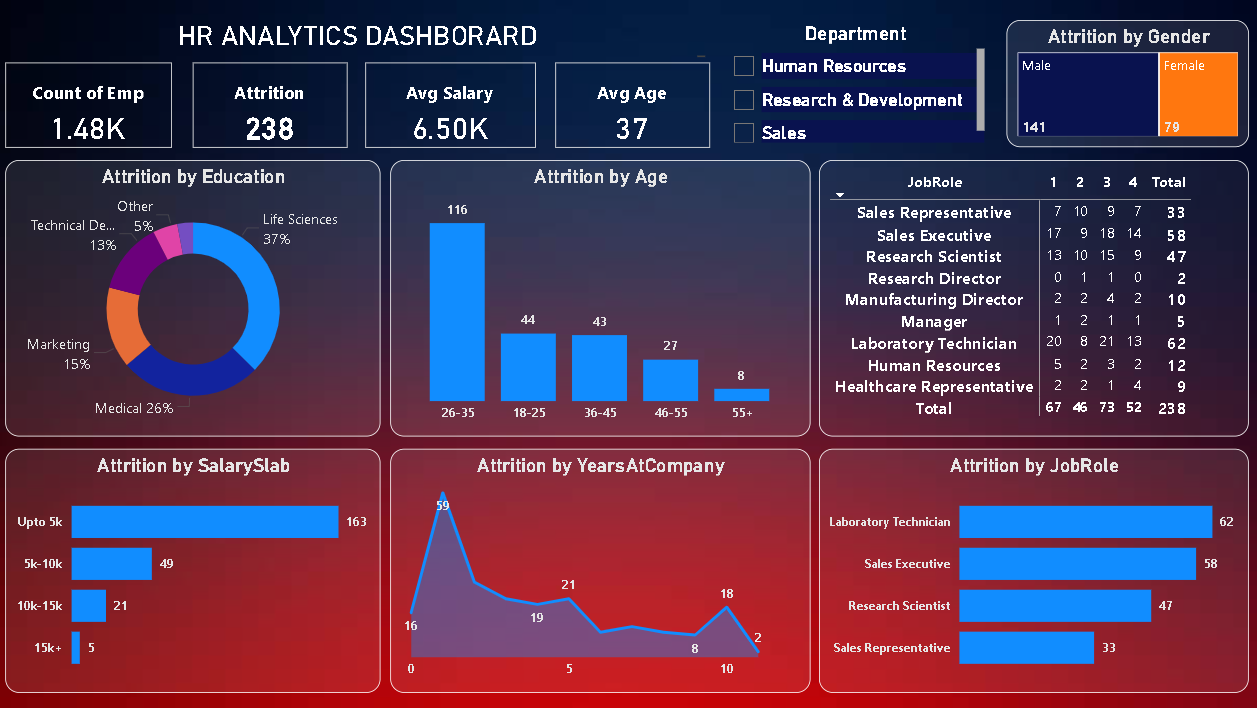

The page's visual inventory and layout, read from the dashboard file:
{"tool":"powerbi","page":{"name":"Page 1","canvas":[1280,720],"ordinal":0},"visuals":[{"type":"cardVisual","title":"Count of Employee","fields":{"Data":["CountNonNull(Sheet1.EmpID)"]},"box":[11,63.1,168.8,86.4],"z":0},{"type":"cardVisual","title":"Count of Employee","fields":{"Data":["Sum(Sheet1.AttritionCount)"]},"box":[201.7,63.1,156.4,86.4],"z":1000},{"type":"cardVisual","title":"Count of Employee","fields":{"Data":["Avg(Sheet1.MonthlyIncome)"]},"box":[376,63.1,172.9,86.4],"z":2000},{"type":"cardVisual","title":"Count of Employee","fields":{"Data":["Avg(Sheet1.Age)"]},"box":[568.1,63.1,156.4,86.4],"z":3000},{"type":"donutChart","title":" Attrition by Education","fields":{"Category":["Sheet1.EducationField"],"Y":["Sum(Sheet1.AttritionCount)"]},"box":[11,161.9,380.1,279.9],"z":4000},{"type":"columnChart","title":" Attrition by Age","fields":{"Category":["Sheet1.AgeGroup"],"Y":["Sum(Sheet1.AttritionCount)"]},"box":[400.7,161.9,425.4,279.9],"z":5000},{"type":"pivotTable","fields":{"Rows":["Sheet1.JobRole"],"Columns":["Sheet1.JobSatisfaction"],"Values":["Sum(Sheet1.AttritionCount)"]},"box":[835.7,161.9,435,279.9],"z":6000},{"type":"barChart","title":" Attrition by SalarySlab","fields":{"Category":["Sheet1.SalarySlab"],"Y":["Sum(Sheet1.AttritionCount)"]},"box":[11,454.2,380.1,247],"z":7000},{"type":"barChart","title":" Attrition by JobRole","fields":{"Category":["Sheet1.JobRole"],"Y":["Sum(Sheet1.AttritionCount)"]},"box":[835.7,454.2,435,247],"z":8000},{"type":"areaChart","title":" Attrition by YearsAtCompany","fields":{"Category":["Sheet1.YearsAtCompany"],"Y":["Sum(Sheet1.AttritionCount)"]},"box":[400.7,454.2,425.4,247],"z":9000},{"type":"treemap","title":" Attrition by Gender","fields":{"Group":["Sheet1.Gender"],"Values":["Sum(Sheet1.AttritionCount)"]},"box":[1025,20.6,245.6,129],"z":10000},{"type":"slicer","title":"Department","fields":{"Values":["Sheet1.Department"]},"box":[736.9,23.3,271.7,126.2],"z":11000},{"type":"textbox","title":"HR ANALYTICS DASHBORARD","box":[11,20.6,713.6,42.5],"z":12000}]}

Visuals, with their boxes in screenshot pixels (x1, y1, x2, y2), scaled from the page's 1280x720 canvas onto the 1257x708 screenshot:
"Count of Employee" cardVisual: bbox=(11, 62, 177, 147)
"Count of Employee" cardVisual: bbox=(198, 62, 352, 147)
"Count of Employee" cardVisual: bbox=(369, 62, 539, 147)
"Count of Employee" cardVisual: bbox=(558, 62, 711, 147)
" Attrition by Education" donutChart: bbox=(11, 159, 384, 434)
" Attrition by Age" columnChart: bbox=(393, 159, 811, 434)
pivotTable - Sheet1.JobRole x Sheet1.JobSatisfaction: bbox=(821, 159, 1248, 434)
" Attrition by SalarySlab" barChart: bbox=(11, 447, 384, 690)
" Attrition by JobRole" barChart: bbox=(821, 447, 1248, 690)
" Attrition by YearsAtCompany" areaChart: bbox=(393, 447, 811, 690)
" Attrition by Gender" treemap: bbox=(1007, 20, 1248, 147)
"Department" slicer: bbox=(724, 23, 990, 147)
"HR ANALYTICS DASHBORARD" textbox: bbox=(11, 20, 712, 62)
